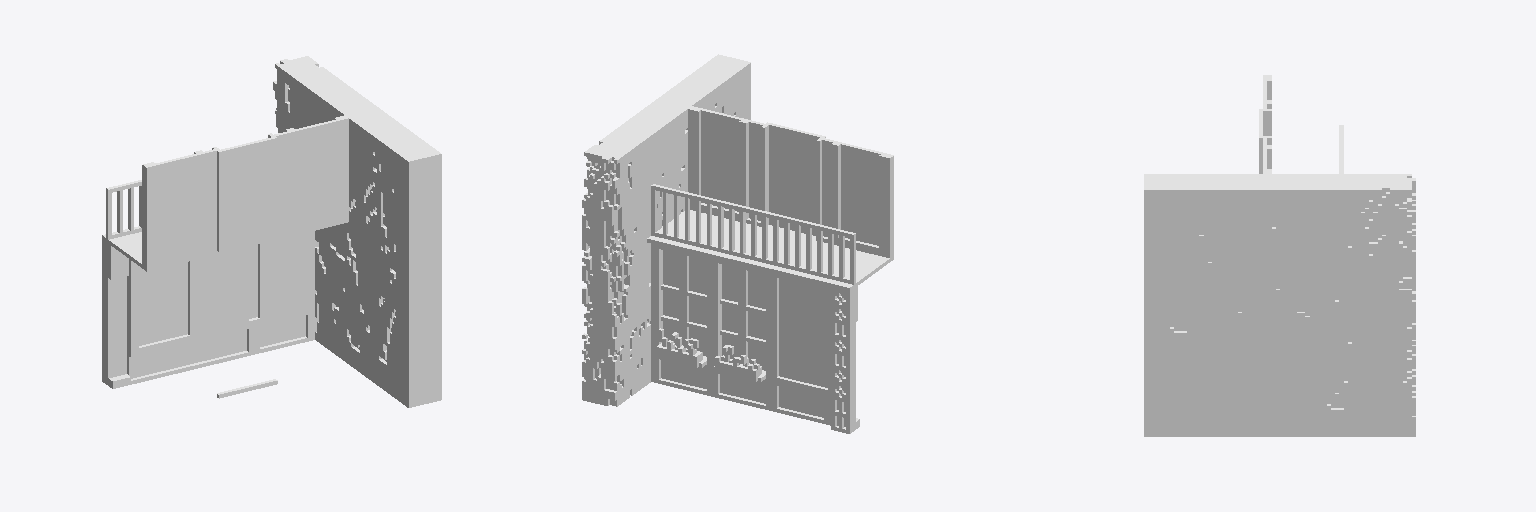
The model's file is Tutorialmap_V2_unfinished-30.obj.
The picture shows the model from 3 angles: view 1: azimuth 30°, elevation 25°; view 2: azimuth 150°, elevation 25°; view 3: azimuth 270°, elevation 25°; orthographic projection.
Visible parts, largest first — view 1: object 1; view 2: object 1; view 3: object 1.
Part boxes in pixels (left/top/right/bottom): object 1: left=102, top=56, right=441, bottom=407; object 1: left=582, top=54, right=893, bottom=433; object 1: left=1144, top=75, right=1415, bottom=436.
Bounding box in the file's own units: 6.4 × 6.4 × 6.4.